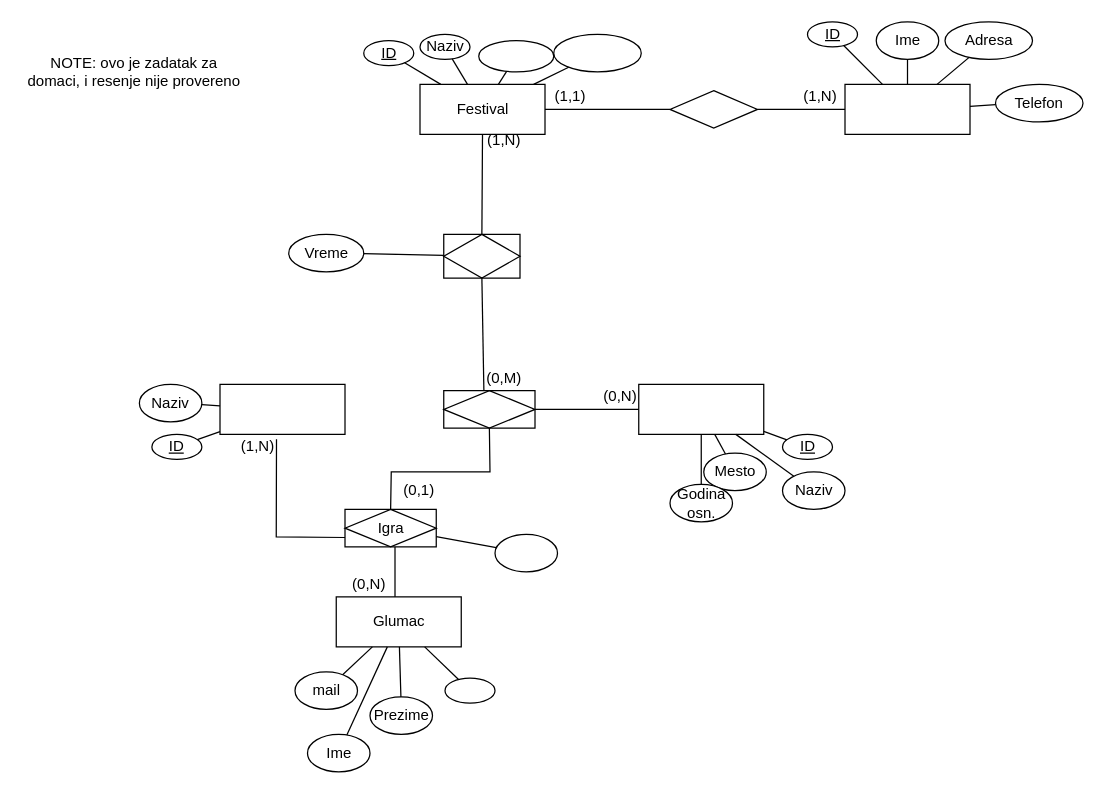
Some shapes in this 1105 by 794 pixel diagram are drawn without their labels. The centre of each missing label's shape, as x and y in pixels:
Datum kraj.: point 596,52
Datum poc.: point 516,55
Honorar: point 526,552
Izvodi: point 488,408
Organizator: point 907,108
organizuje: point 713,108
Pozoriste: point 701,408
Predstava: point 282,408
Sifra: point 469,690
Ucestvuje: point 481,255
